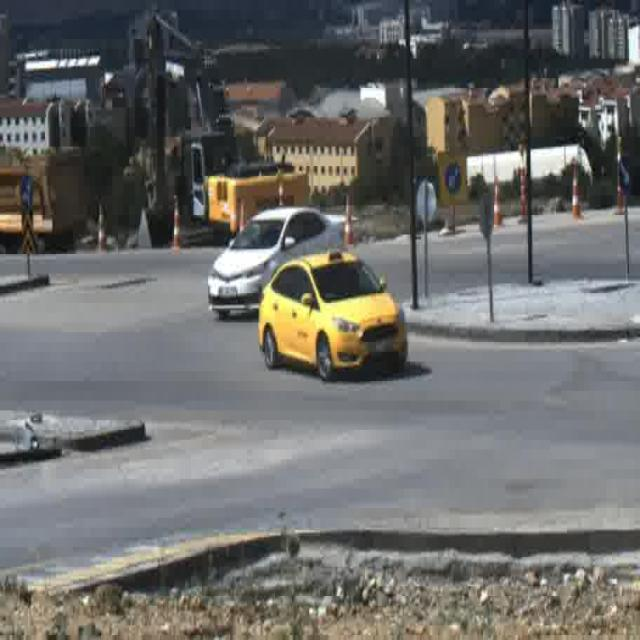Car: (258, 252, 408, 384), (208, 208, 340, 315)
